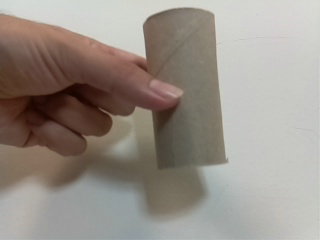rollo papel: (139, 5, 234, 172)
